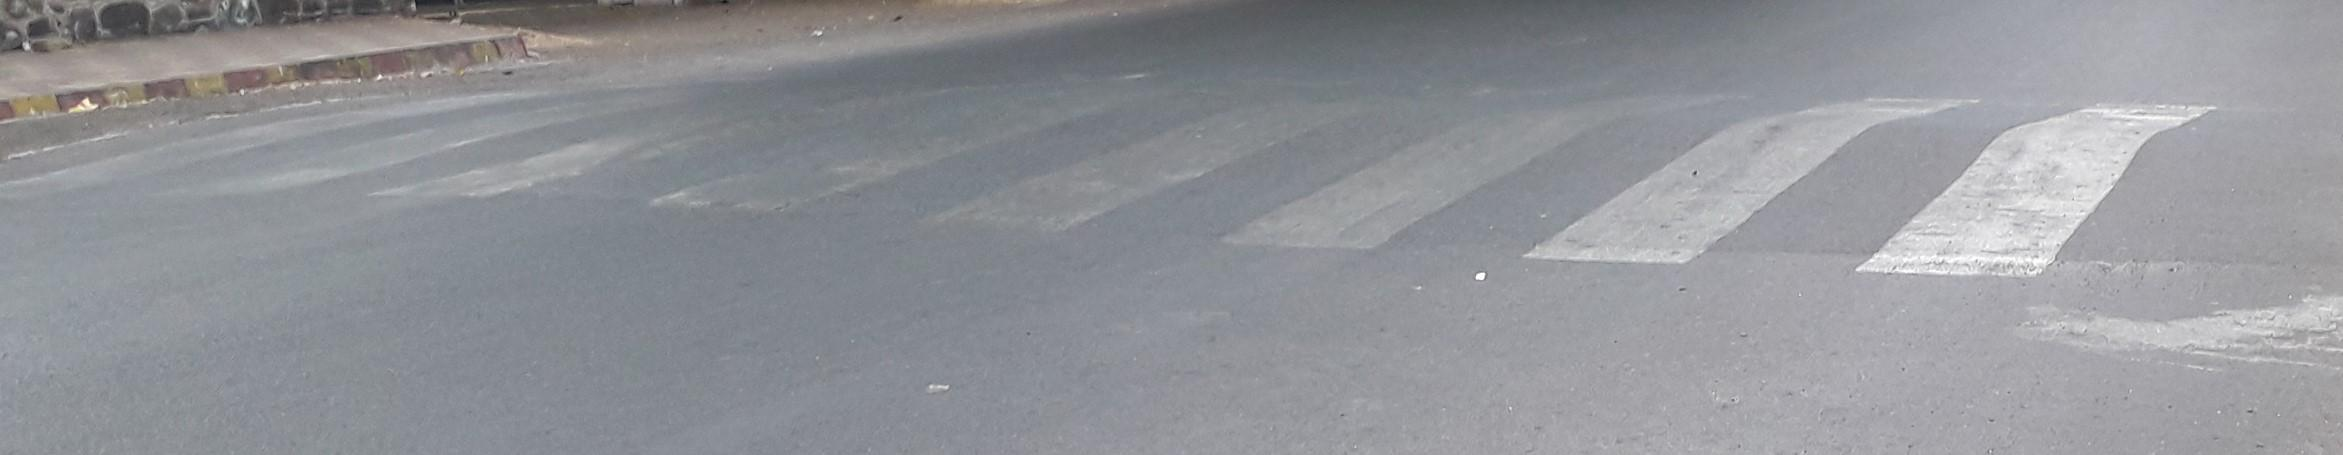speed-bump: (16, 58, 2338, 262)
